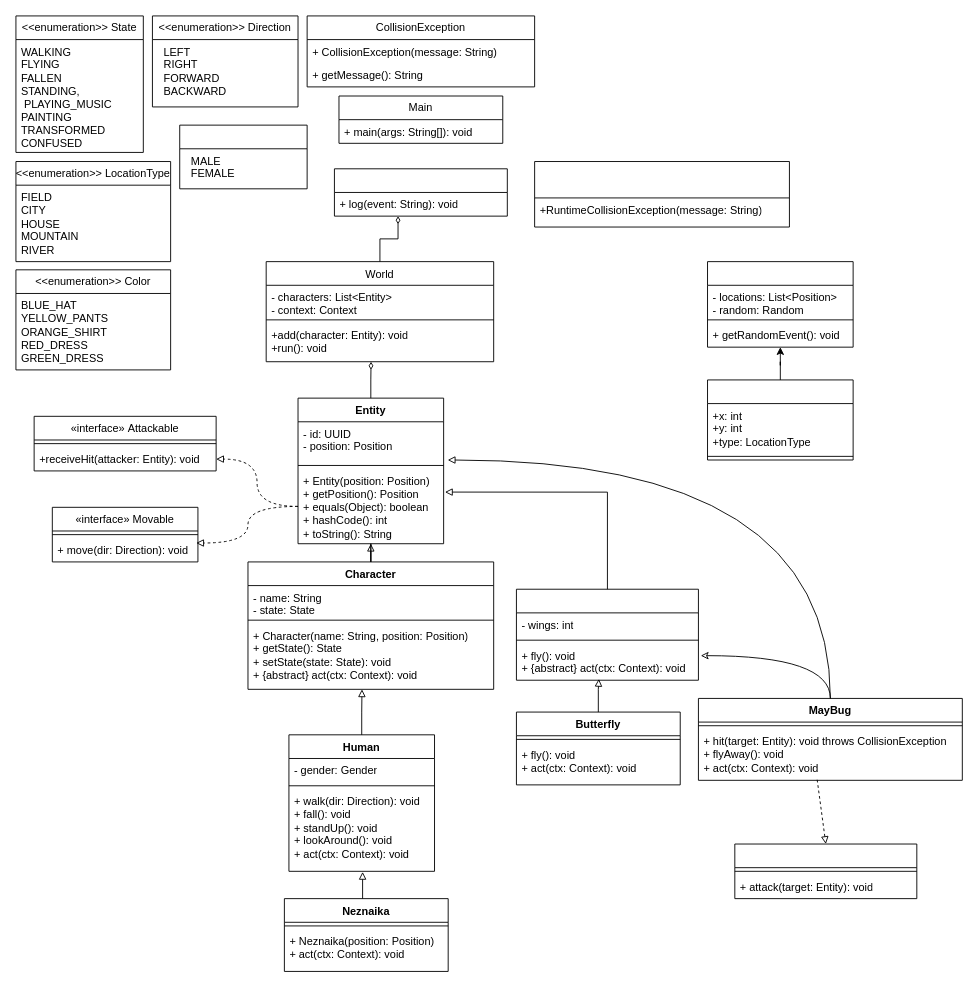
The diagram is 978 pixels wide and 990 high, and some of its shapes have lost their labels. Each missing label, with the box of its shape:
<<enumeration>> Gender: (179, 124, 307, 189)
<<record>> Position: (707, 379, 853, 460)
<<unchecked>> RuntimeCollisionException: (534, 161, 789, 227)
Context: (707, 261, 853, 347)
Insect: (516, 588, 698, 680)
Logger: (334, 168, 507, 216)
«interface» Aggressor: (734, 843, 917, 899)
